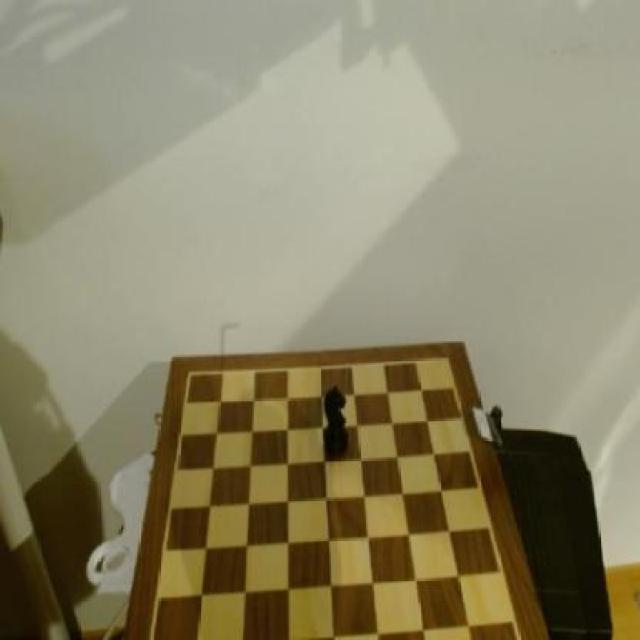black-king: (320, 384, 355, 462)
